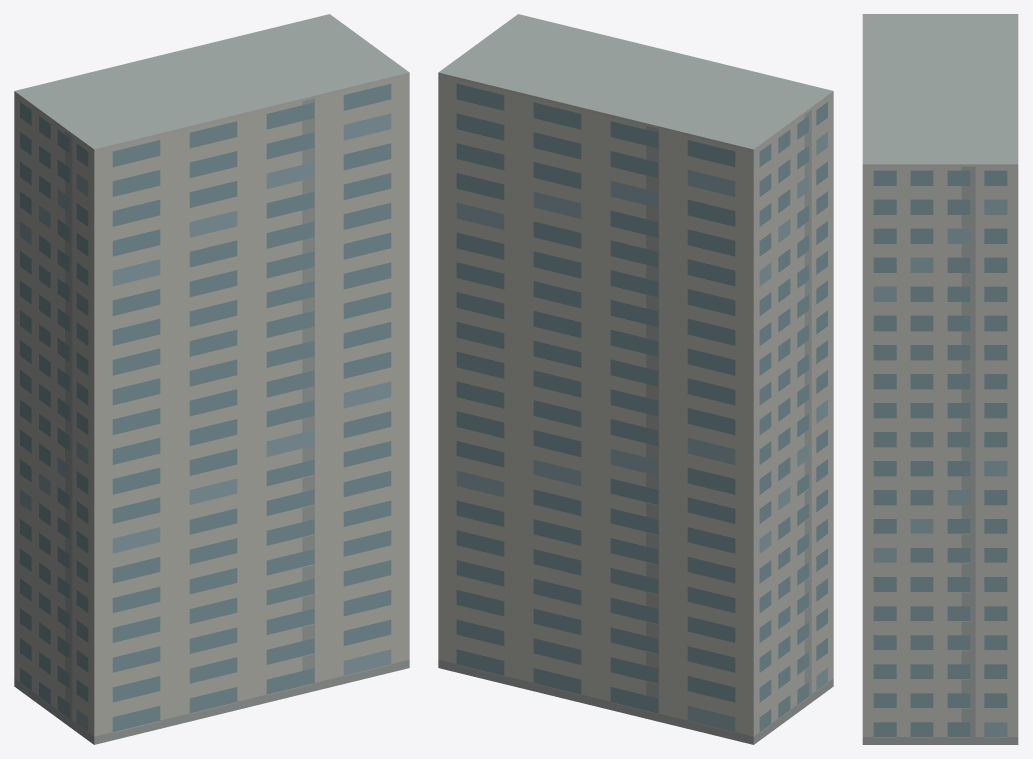
Rendered from residential-b5e3893c-0f1d-4eec-bb46-9494a1e2f111.glb.
The picture shows the model from 3 angles, left to right: view 1: azimuth 30°, elevation 25°; view 2: azimuth 150°, elevation 25°; view 3: azimuth 270°, elevation 25°; orthographic projection. The views are drawn at different scales.
Parts seen in each view (by area): view 1: residential-b5e3893c-0f1d-4eec-bb46-9494a1e2f111.tmp; view 2: residential-b5e3893c-0f1d-4eec-bb46-9494a1e2f111.tmp; view 3: residential-b5e3893c-0f1d-4eec-bb46-9494a1e2f111.tmp.
Part boxes in pixels (<box>): residential-b5e3893c-0f1d-4eec-bb46-9494a1e2f111.tmp: <box>14,14,409,744</box>; residential-b5e3893c-0f1d-4eec-bb46-9494a1e2f111.tmp: <box>438,14,833,744</box>; residential-b5e3893c-0f1d-4eec-bb46-9494a1e2f111.tmp: <box>862,14,1018,744</box>.
Bounding box in the file's own units: 29.96 × 54 × 13.16.
